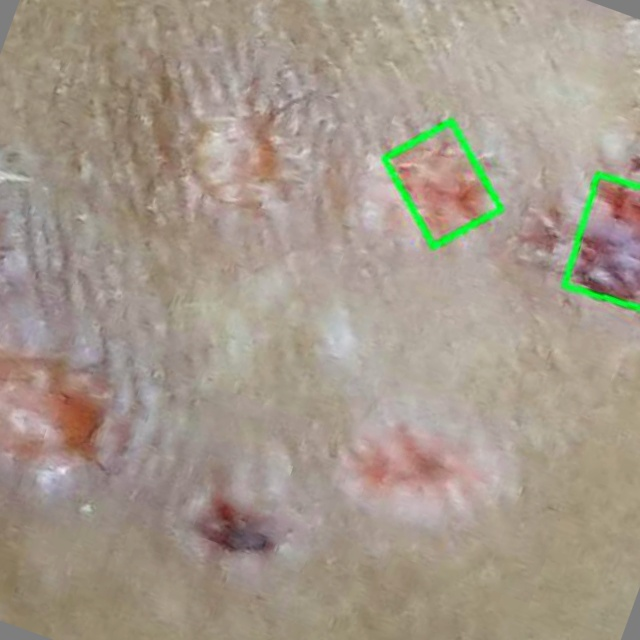Eczema: (383, 121, 500, 247)
